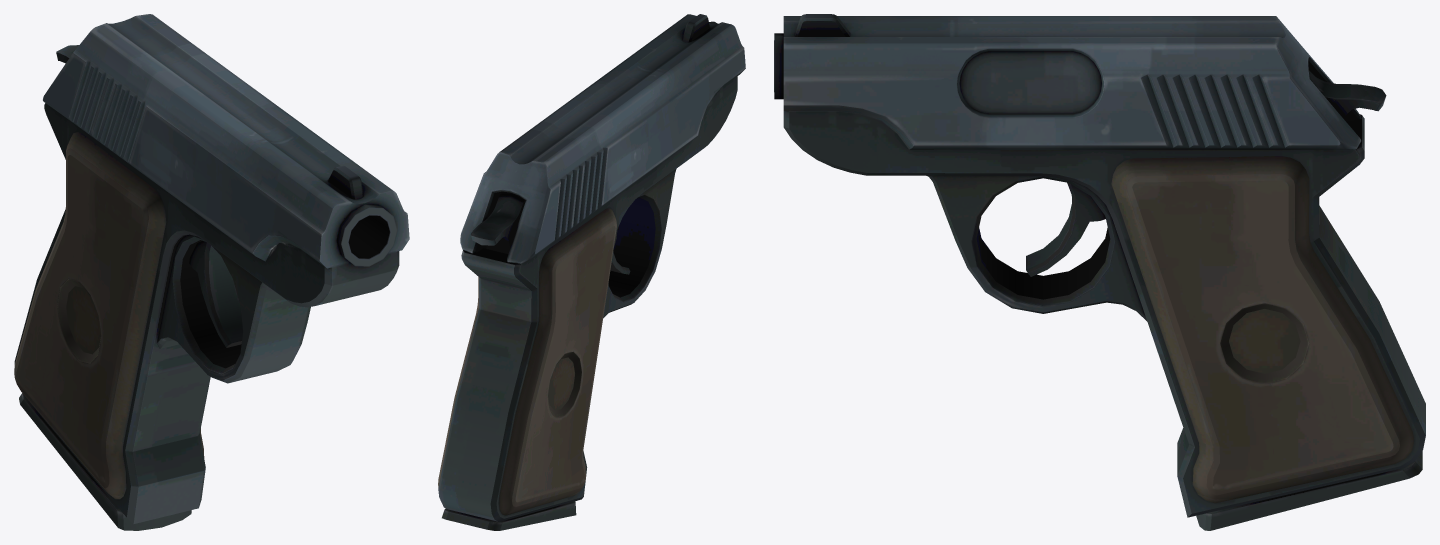
File: pistol.fbx
3 renders of one model, left to right at view 1: azimuth 30°, elevation 25°; view 2: azimuth 150°, elevation 25°; view 3: azimuth 270°, elevation 25°, orthographic. The views are drawn at different scales.
Visible parts, largest first — view 1: c_pistol:c_pistol_reference; view 2: c_pistol:c_pistol_reference; view 3: c_pistol:c_pistol_reference.
Boxes of the visible parts, x1,y1,x2,y2 form: c_pistol:c_pistol_reference: (14, 14, 409, 530); c_pistol:c_pistol_reference: (438, 14, 745, 530); c_pistol:c_pistol_reference: (774, 14, 1425, 530).
Size of the model in its own units: 0.86 by 4.13 by 4.87.
Materials: 1 (1 with a texture image).
